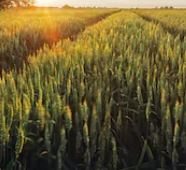Wheat: (17, 80, 89, 138)
